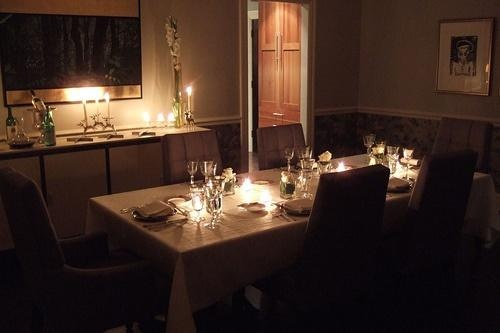bottle: (43, 106, 58, 147), (6, 103, 19, 142), (30, 89, 47, 113)
chair: (231, 163, 392, 333), (1, 165, 162, 333), (366, 149, 479, 333), (432, 116, 495, 178), (162, 129, 224, 185), (256, 122, 312, 173)
diningtable: (86, 150, 500, 333)
